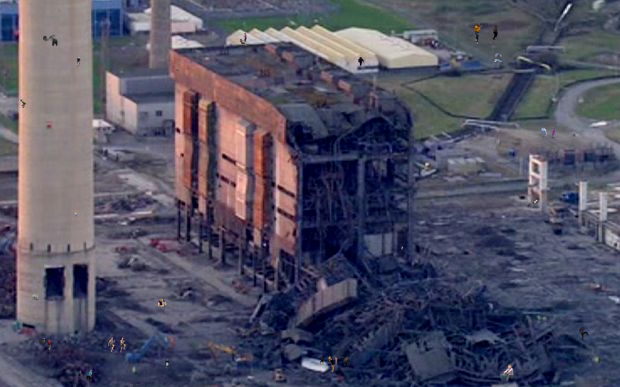Human: (318, 355, 350, 372), (474, 23, 499, 44), (108, 337, 126, 353), (500, 364, 515, 381), (158, 298, 174, 312), (37, 338, 52, 351), (43, 34, 58, 46), (78, 370, 93, 381), (541, 127, 556, 138), (579, 327, 590, 341), (32, 294, 53, 301), (164, 358, 171, 375), (494, 52, 504, 62), (240, 33, 247, 46), (76, 57, 81, 68), (358, 57, 364, 66), (20, 99, 26, 108), (531, 199, 538, 205), (8, 273, 14, 277), (74, 212, 77, 217), (544, 42, 549, 45), (133, 384, 140, 386), (368, 61, 371, 65), (313, 294, 315, 299), (401, 246, 403, 251), (176, 68, 178, 73), (317, 105, 320, 108), (119, 294, 122, 297)
